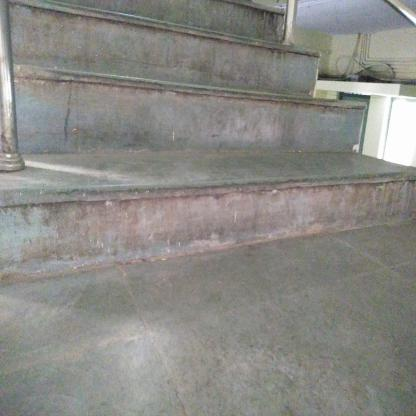stairs: (20, 46, 315, 288)
